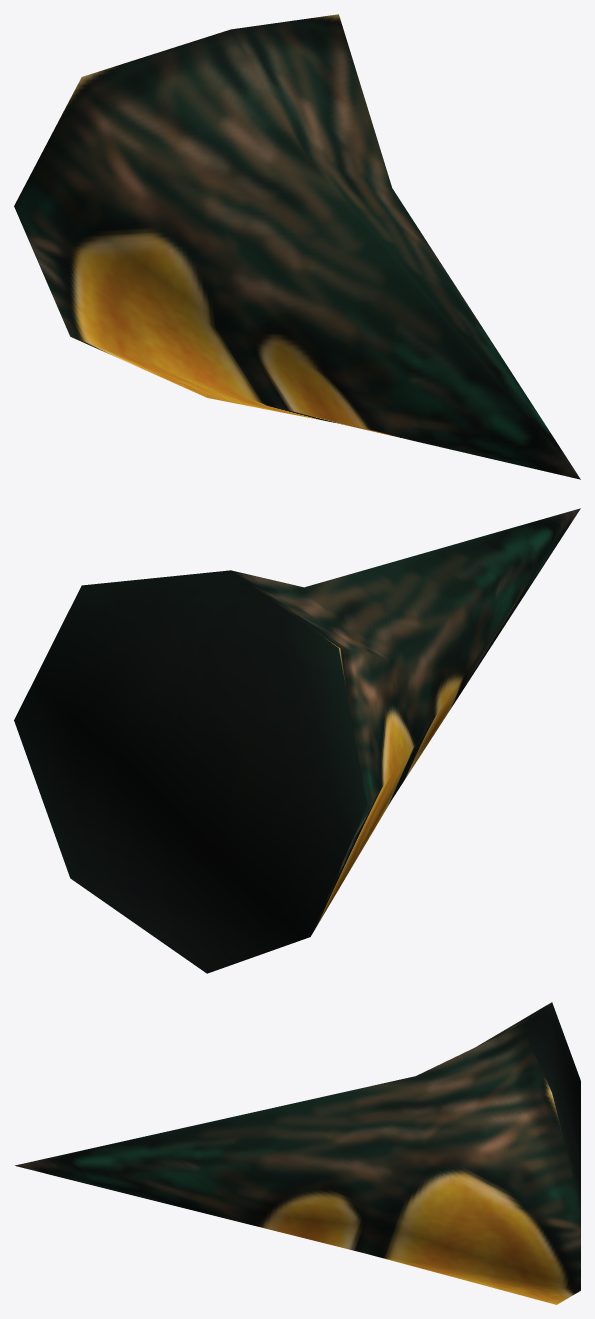
Rendered from Needle.fbx.
3 views of the same model, one above another, from view 1: azimuth 30°, elevation 25°; view 2: azimuth 150°, elevation 25°; view 3: azimuth 270°, elevation 25° (orthographic). The views are drawn at different scales.
Parts seen in each view (by area): view 1: hari; view 2: hari; view 3: hari.
Part boxes in pixels (x1=…): hari: x1=14, y1=14, x2=580, y2=479; hari: x1=14, y1=508, x2=580, y2=973; hari: x1=15, y1=1002, x2=580, y2=1304.
Bounding box in the file's own units: 12.22 × 12.77 × 23.43.
